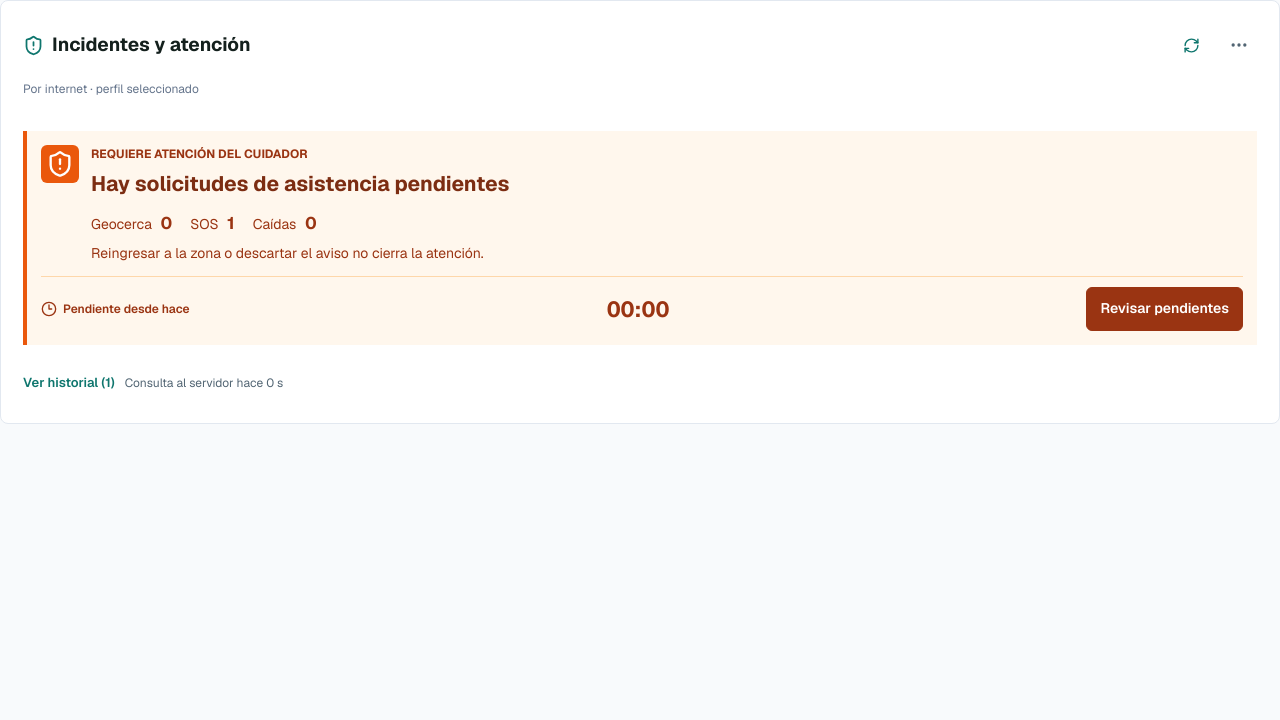
Test: keeps the priority alert visible and expands attention commands on request
Expected: the message named "Atención pendiente" is shown, [23, 131, 1257, 345]
Expected: the button "Tomar atención" is not shown
Click the button "Revisar pendientes".
click(1165, 309)  # box [1086, 287, 1243, 331]
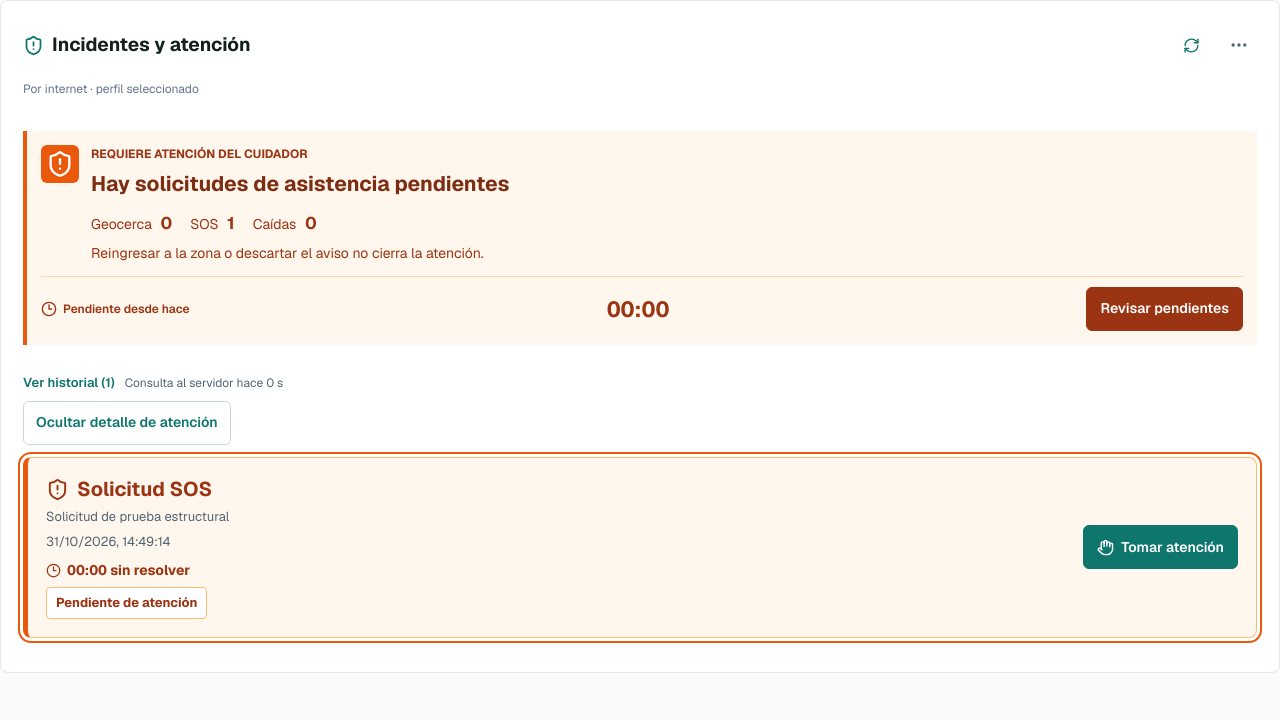
Expected: the button "Tomar atención" is shown, [1083, 525, 1238, 569]
